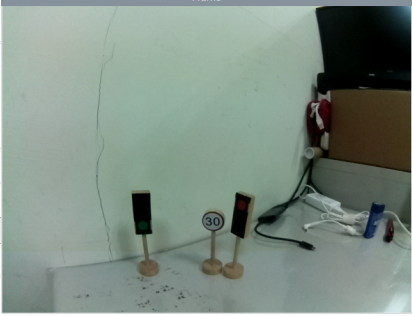Green: (130, 189, 155, 239)
Red: (229, 192, 256, 243)
Speed30: (200, 210, 226, 234)
